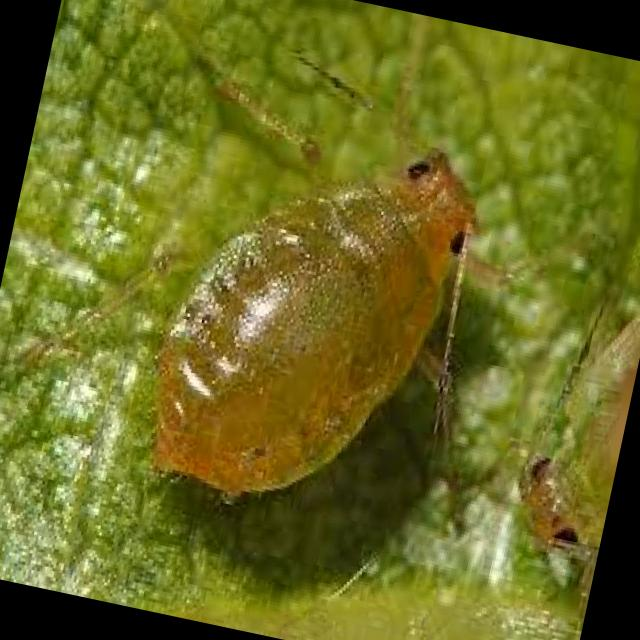aphid: (88, 85, 572, 619)
